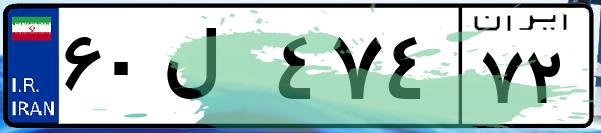0: (110, 28, 158, 98)
2: (525, 38, 570, 115)
4: (270, 28, 330, 110), (385, 28, 445, 110)
6: (57, 26, 110, 100)
7: (330, 28, 385, 110), (475, 38, 525, 113)
ل: (158, 20, 270, 120)
